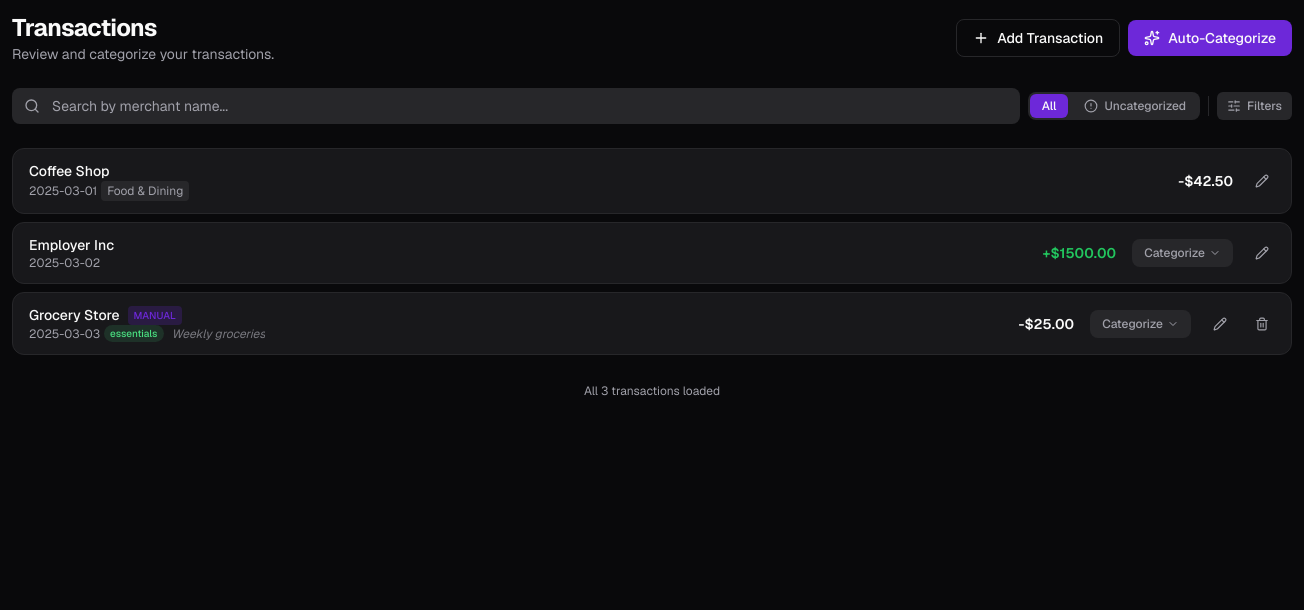
Test: TransactionsPage › pre-fills notes field for transactions that have notes
expect the text "Grocery Store" is shown: met, box [29,305,120,325]
Click the button titled "Edit transaction" in the row of "$25.00": (1220, 324) [1207,311,1233,337]
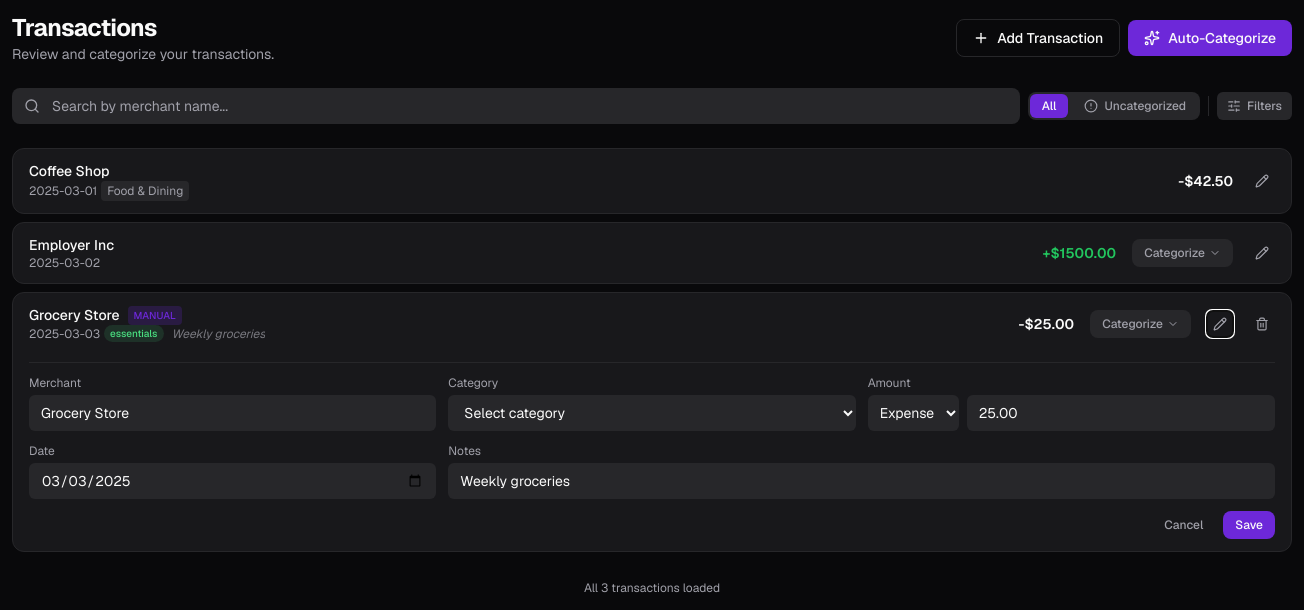
expect the field showing "Weekly groceries" below "Notes" is shown: met, box [448,463,1275,499]
